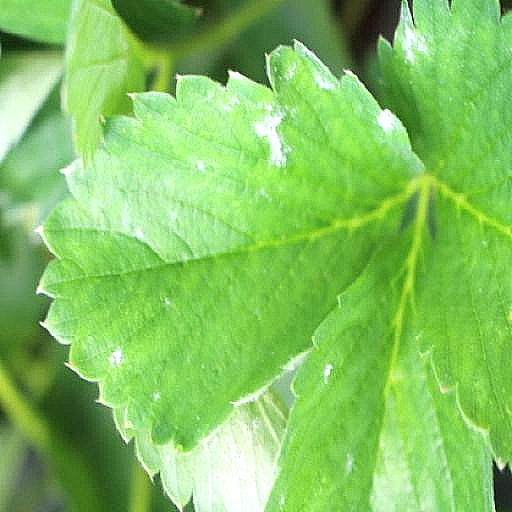Powdery Mildew Leaf: (34, 56, 431, 475), (264, 0, 496, 309), (361, 40, 511, 511)
